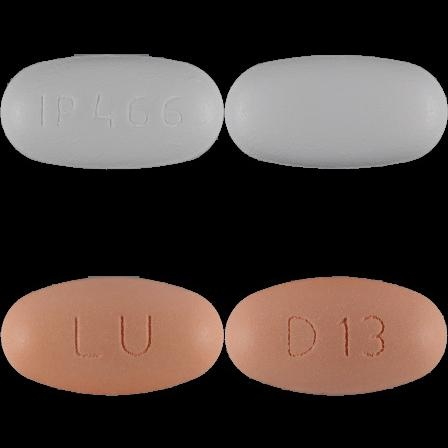68084-772: (0, 0, 224, 224)
